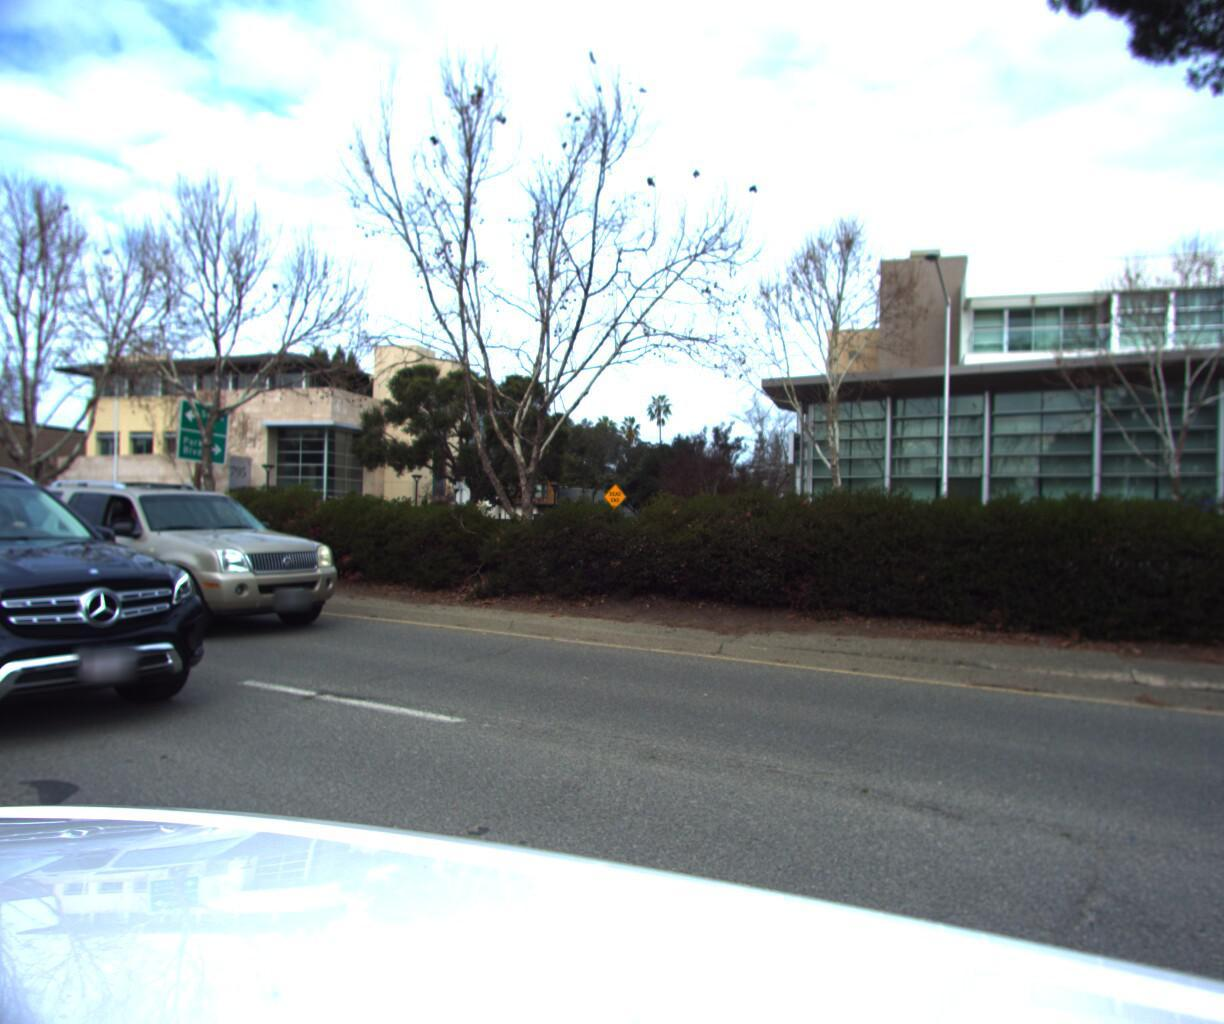car: (0, 432, 232, 776), (0, 481, 359, 655)
